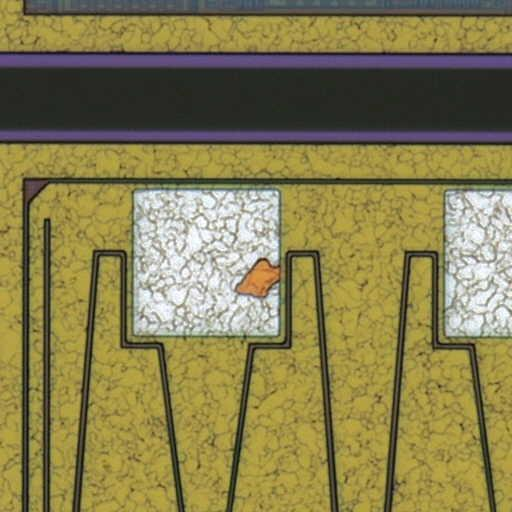BLOCK ETCH: (227, 252, 291, 309)
